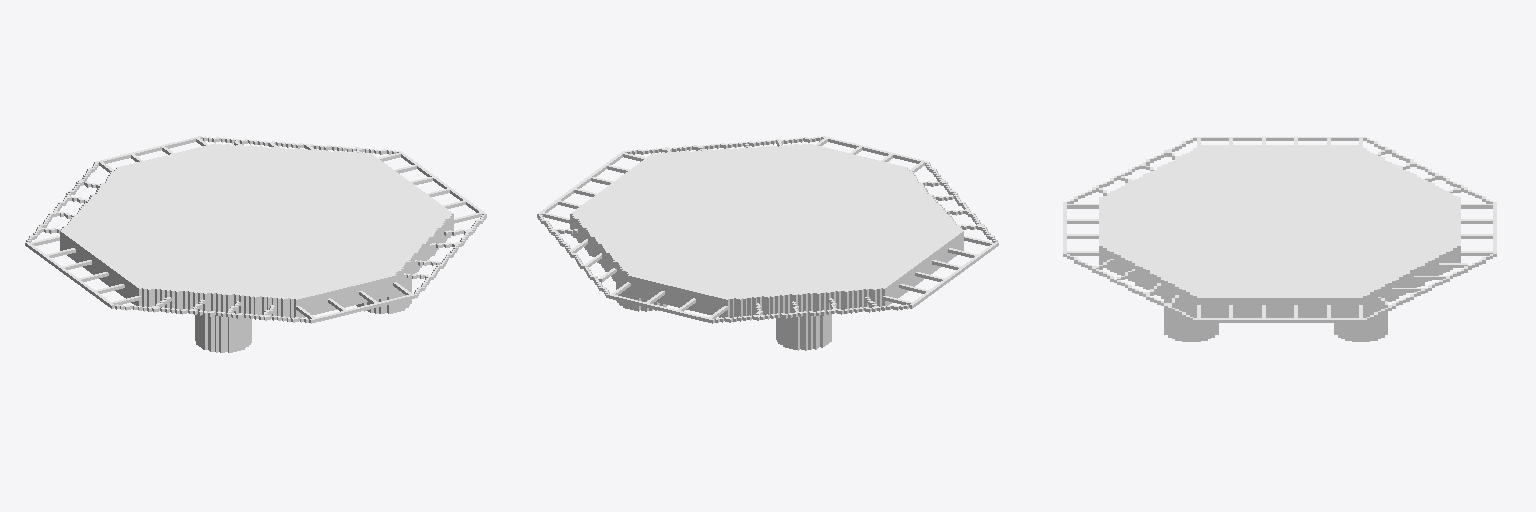
Rendered from Helipuerto.obj.
The picture shows the model from 3 angles: view 1: azimuth 30°, elevation 25°; view 2: azimuth 150°, elevation 25°; view 3: azimuth 270°, elevation 25°; orthographic projection.
Parts seen in each view (by area): view 1: object 1; view 2: object 1; view 3: object 1.
Part boxes in pixels (x1,y1,x2,y2): object 1: (25, 136, 486, 352); object 1: (537, 136, 998, 350); object 1: (1063, 137, 1496, 341).
Size of the model in its own units: 12 by 2.1 by 12.